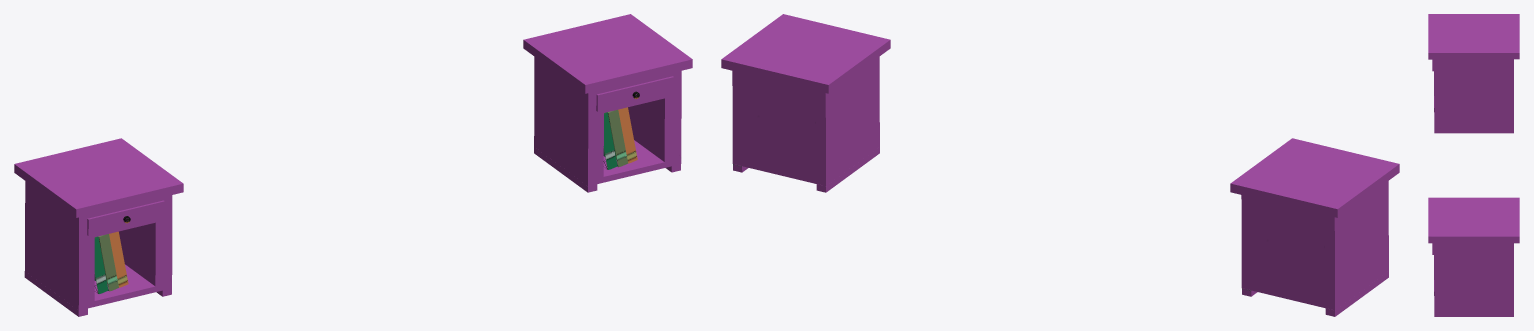
Rendered from BurosPiano.obj.
The picture shows the model from 3 angles, left to right: view 1: azimuth 30°, elevation 25°; view 2: azimuth 150°, elevation 25°; view 3: azimuth 270°, elevation 25°; orthographic projection. The views are drawn at different scales.
Visible parts, largest first — view 1: Cubo.004_Cubo.001, Cubo.003_Cubo.004; view 2: Cubo.004_Cubo.001, Cubo.003_Cubo.004; view 3: Cubo.004_Cubo.001, Cubo.003_Cubo.004.
Boxes of the visible parts, x1,y1,x2,y2 form: Cubo.004_Cubo.001: (523, 14, 692, 192); Cubo.003_Cubo.004: (14, 138, 183, 316); Cubo.004_Cubo.001: (721, 14, 890, 192); Cubo.003_Cubo.004: (1230, 138, 1399, 316); Cubo.004_Cubo.001: (1428, 197, 1519, 316); Cubo.003_Cubo.004: (1428, 14, 1519, 133).
Bounding box in the file's own units: 35.09 × 6.13 × 6.11.
2 materials, 2 textured.
